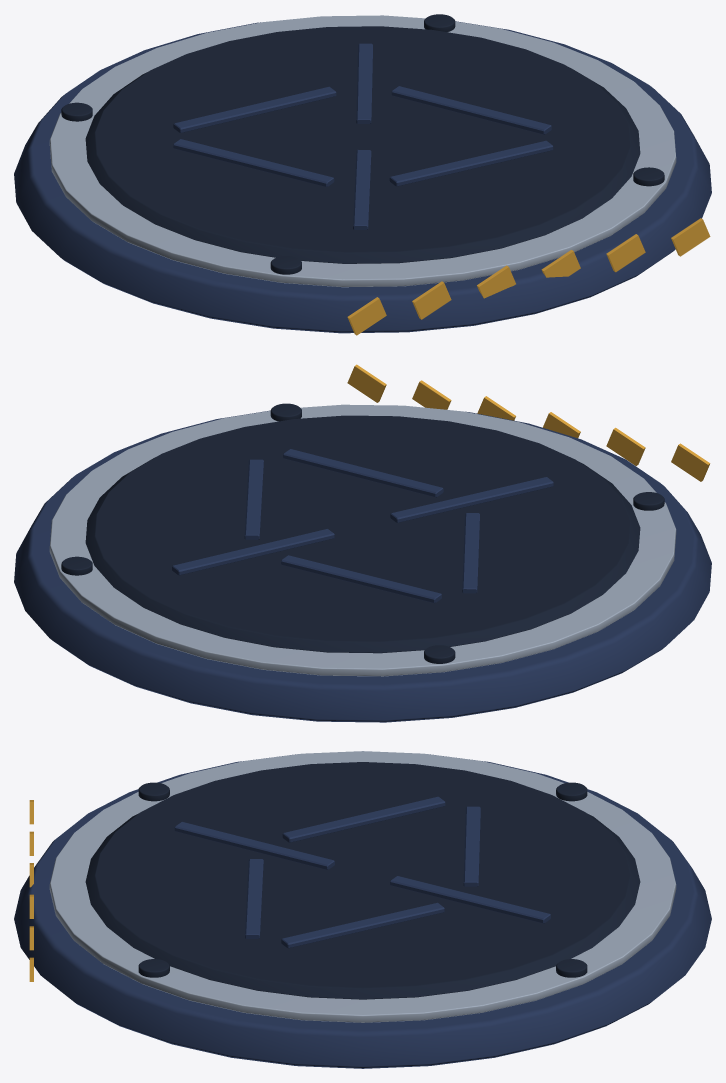
The model's file is trap_tar_depleted.glb.
The picture shows the model from 3 angles, top to bottom: view 1: azimuth 30°, elevation 25°; view 2: azimuth 150°, elevation 25°; view 3: azimuth 270°, elevation 25°; orthographic projection.
Visible parts, largest first — view 1: trap_tar_residue, trap_tar_plate, trap_tar_plate_rim, trap_tar_hazard, trap_tar_crack1, trap_tar_crack4, trap_tar_crack3, trap_tar_crack0, trap_tar_crack5, trap_tar_crack2, trap_tar_lamp0, trap_tar_lamp2 (+1 smaller); view 2: trap_tar_residue, trap_tar_plate, trap_tar_plate_rim, trap_tar_hazard, trap_tar_crack2, trap_tar_crack5, trap_tar_crack4, trap_tar_crack1, trap_tar_crack0, trap_tar_crack3; view 3: trap_tar_residue, trap_tar_plate, trap_tar_plate_rim, trap_tar_crack3, trap_tar_crack0, trap_tar_crack2, trap_tar_crack5, trap_tar_crack4, trap_tar_crack1, trap_tar_hazard, trap_tar_lamp1, trap_tar_lamp2 (+2 smaller).
Part boxes in pixels (x1,y1,x2,y2): trap_tar_residue: [85, 26, 640, 263]; trap_tar_plate: [14, 21, 711, 333]; trap_tar_plate_rim: [49, 15, 676, 287]; trap_tar_hazard: [347, 218, 710, 335]; trap_tar_crack1: [389, 140, 553, 186]; trap_tar_crack4: [173, 86, 336, 132]; trap_tar_crack3: [173, 139, 334, 186]; trap_tar_crack0: [391, 86, 551, 134]; trap_tar_crack5: [356, 43, 372, 123]; trap_tar_crack2: [353, 150, 371, 229]; trap_tar_lamp0: [633, 167, 664, 186]; trap_tar_lamp2: [61, 102, 92, 121]; trap_tar_residue: [85, 415, 640, 653]; trap_tar_plate: [14, 410, 711, 722]; trap_tar_plate_rim: [49, 404, 676, 676]; trap_tar_hazard: [347, 364, 710, 481]; trap_tar_crack2: [390, 477, 553, 522]; trap_tar_crack5: [172, 529, 334, 575]; trap_tar_crack4: [281, 555, 441, 603]; trap_tar_crack1: [283, 449, 443, 497]; trap_tar_crack0: [244, 459, 263, 539]; trap_tar_crack3: [462, 513, 479, 593]; trap_tar_residue: [85, 762, 640, 999]; trap_tar_plate: [14, 754, 711, 1068]; trap_tar_plate_rim: [49, 751, 676, 1022]; trap_tar_crack3: [282, 796, 445, 842]; trap_tar_crack0: [281, 902, 444, 948]; trap_tar_crack2: [174, 822, 334, 869]; trap_tar_crack5: [390, 876, 550, 923]; trap_tar_crack4: [463, 806, 480, 886]; trap_tar_crack1: [245, 859, 263, 938]; trap_tar_hazard: [29, 800, 33, 981]; trap_tar_lamp1: [138, 782, 169, 801]; trap_tar_lamp2: [556, 782, 587, 801].
Size of the model in its own units: 1.56 by 0.1318 by 1.56.
